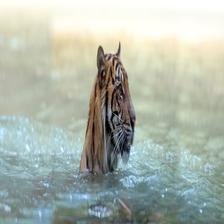tiger: (91, 52, 141, 173)
